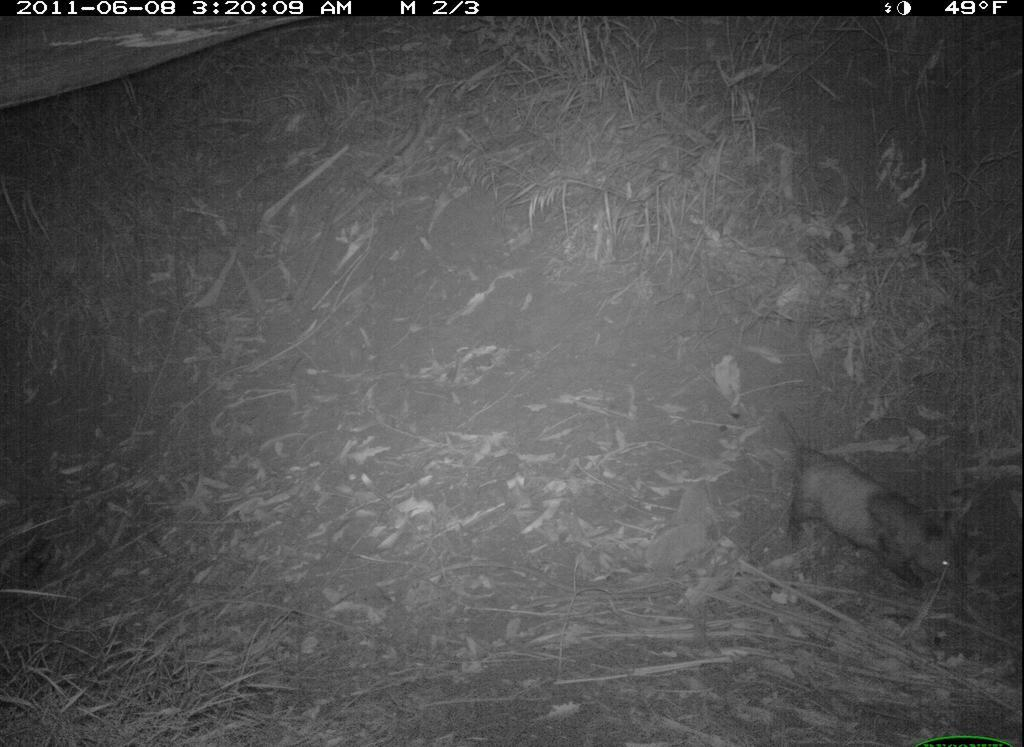opossum: (769, 405, 976, 596)
